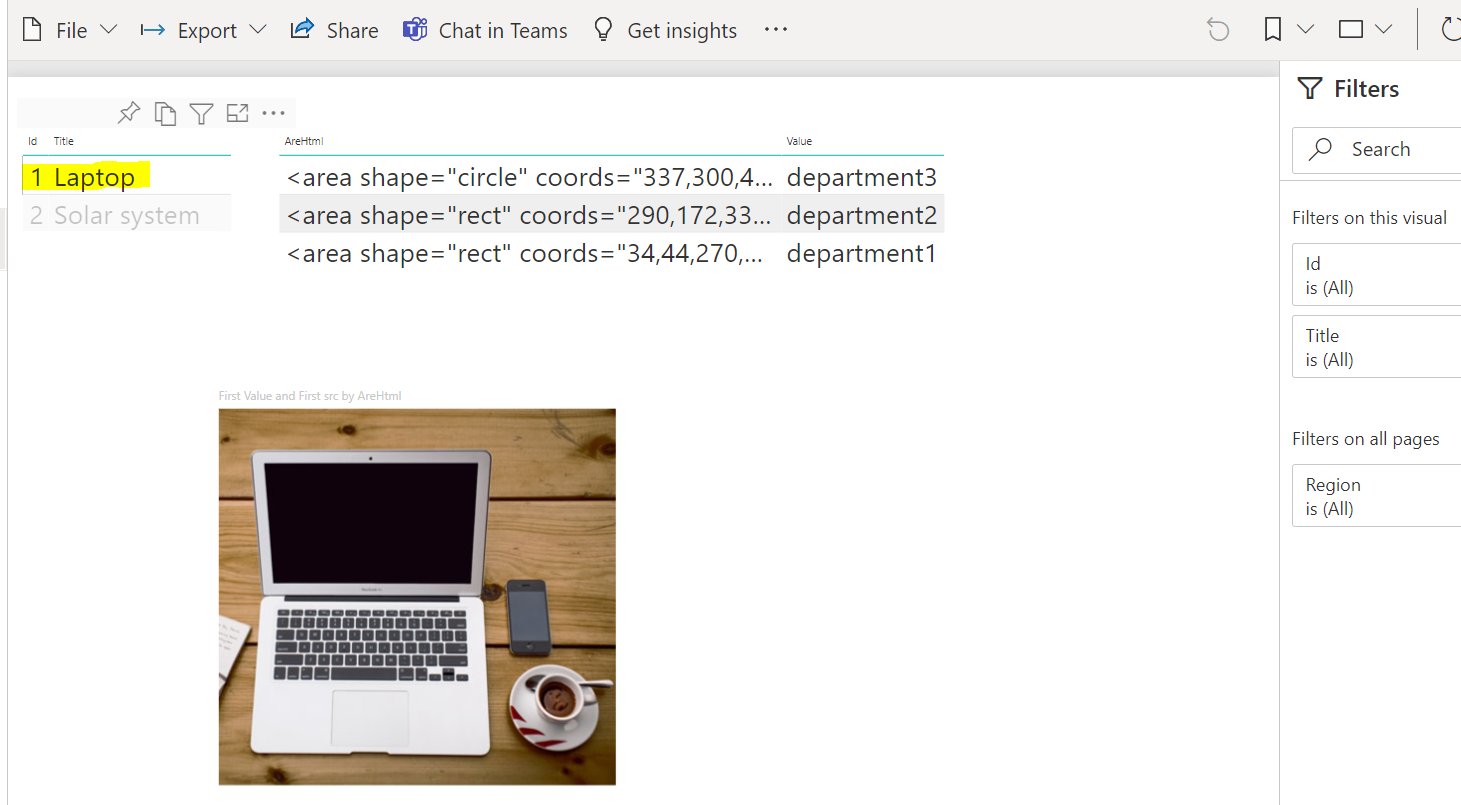

The page's visual inventory and layout, read from the dashboard file:
{"tool":"powerbi","page":{"name":"Sample1","canvas":[1280,720],"ordinal":0},"visuals":[{"type":"tableEx","fields":{"Values":["image.Id","image.Title"]},"box":[9.5,20.5,281.1,186.3],"z":0},{"type":"tableEx","fields":{"Values":["imagemap.AreHtml","imagemap.Value"]},"box":[266.8,20.5,1013.7,292.1],"z":1000},{"type":"imagemap4AD8D1E1DA0943AEB18E1E59B92001A9","fields":{"htmlcolumn":["imagemap.AreHtml"],"imageurl":["Min(image.src)"],"value":["Min(imagemap.Value)"]},"box":[206.4,282.1,712,409],"z":2000}]}

Visuals, with their boxes on the page's 1280x720 design canvas (x1, y1, x2, y2). These are canvas units, not pixel positions in the 1461x805 screenshot, which may show the page scaled, cropped or inside an application window:
tableEx - image.Id x image.Title: x1=10, y1=20, x2=291, y2=207
tableEx - imagemap.AreHtml x imagemap.Value: x1=267, y1=20, x2=1280, y2=313
imagemap4AD8D1E1DA0943AEB18E1E59B92001A9 - imagemap.AreHtml x Min(image.src): x1=206, y1=282, x2=918, y2=691
